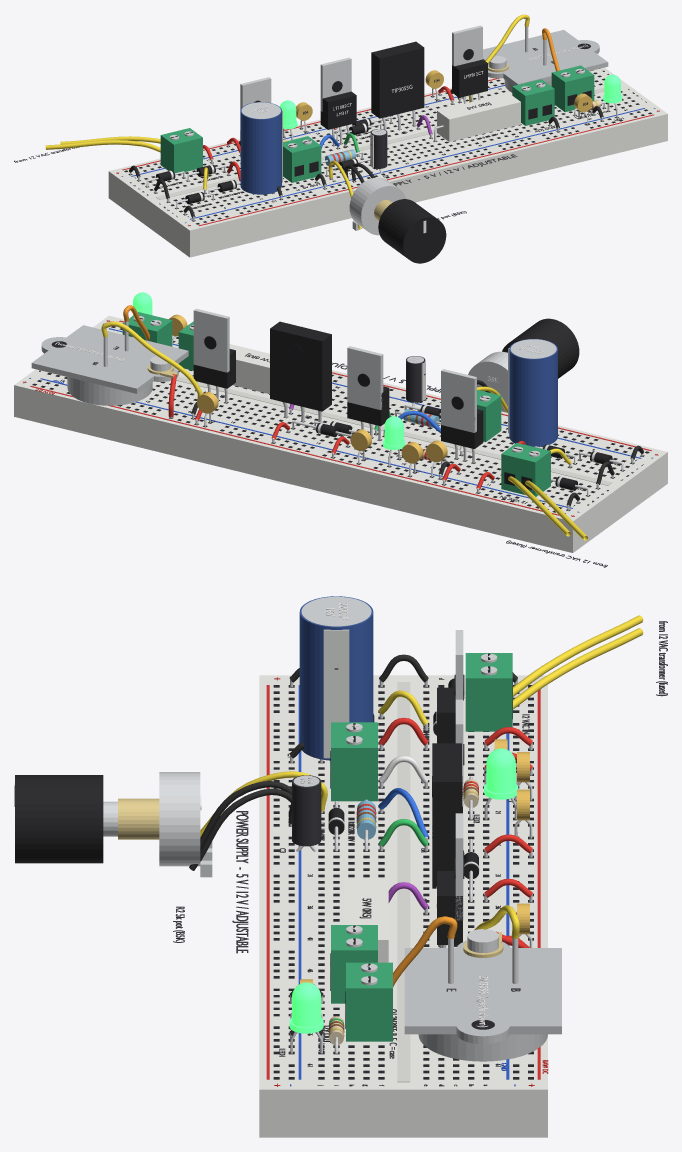
The model's file is power-supply-breadboard.glb.
3 renders of one model, top to bottom at view 1: azimuth 30°, elevation 25°; view 2: azimuth 150°, elevation 25°; view 3: azimuth 270°, elevation 25°, orthographic. The views are drawn at different scales.
Visible parts, largest first — view 1: Breadboard 830, Q2 body, Socket holes, Q1 TO-3 flange, C1 can, R2 knob, R4 body, R2 body, J1 block, J4 block, J3 block, J2 block (+12 smaller); view 2: Breadboard 830, Q1 TO-3 flange, Q2 body, C1 can, Socket holes, U5 tab, U1 tab, U6 tab, J1 block, R2 knob, Centre channel, R4 body (+15 smaller); view 3: Breadboard 830, Q1 TO-3 flange, R2 knob, Socket holes, C1 can, Centre channel, R2 body, Q2 body, J3 block, J4 block, J1 block, C1 minus stripe (+19 smaller).
Part boxes in pixels (x1,y1,x2,y2): Breadboard 830: (108, 67, 667, 257); Q2 body: (371, 41, 424, 118); Socket holes: (124, 70, 651, 224); Q1 TO-3 flange: (483, 30, 608, 85); C1 can: (240, 102, 281, 194); R2 knob: (378, 199, 446, 263); R4 body: (437, 93, 520, 141); R2 body: (349, 177, 405, 235); J1 block: (160, 128, 202, 172); J4 block: (283, 136, 321, 182); J3 block: (551, 65, 594, 112); J2 block: (512, 79, 554, 125); Breadboard 830: (14, 315, 667, 552); Q1 TO-3 flange: (31, 325, 188, 393); Q2 body: (270, 321, 331, 411); C1 can: (509, 339, 557, 446); Socket holes: (32, 326, 649, 513); U5 tab: (193, 308, 229, 372); U1 tab: (347, 346, 383, 409); U6 tab: (441, 369, 476, 432); J1 block: (501, 443, 550, 496); R2 knob: (502, 318, 579, 378); Centre channel: (176, 376, 612, 485); R4 body: (229, 344, 269, 394); Breadboard 830: (259, 675, 547, 1137); Q1 TO-3 flange: (404, 948, 561, 1034); R2 knob: (15, 775, 103, 863); Socket holes: (273, 685, 533, 1079); C1 can: (299, 596, 373, 760); Centre channel: (397, 682, 410, 1082); R2 body: (159, 772, 200, 866); Q2 body: (432, 743, 461, 888); J3 block: (346, 962, 392, 1041); J4 block: (331, 722, 377, 801); J1 block: (465, 653, 512, 731); C1 minus stripe: (323, 629, 349, 758).
Size of the model in its own units: 0.188 by 0.0362 by 0.111.
